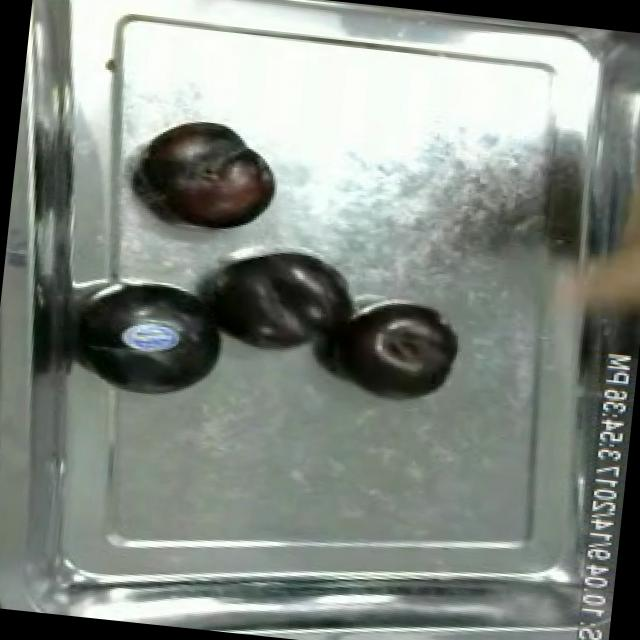Fruit: (62, 264, 242, 417), (125, 112, 288, 243), (200, 238, 356, 367), (322, 289, 469, 411)
